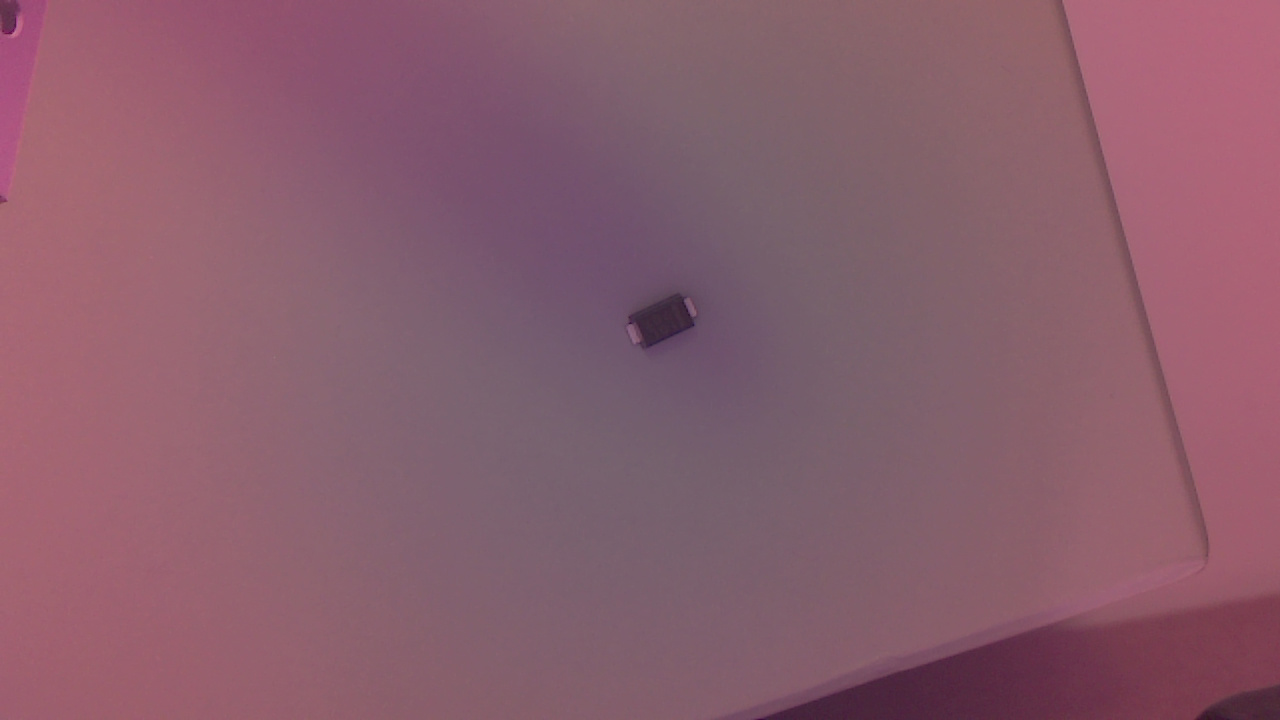Diode: (630, 293, 706, 356)
